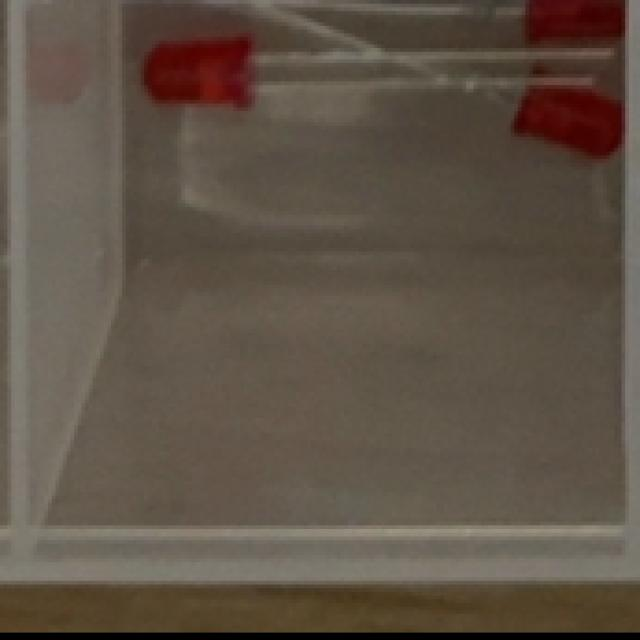RED_LED: (197, 0, 640, 155), (145, 36, 620, 112), (219, 0, 627, 54)
